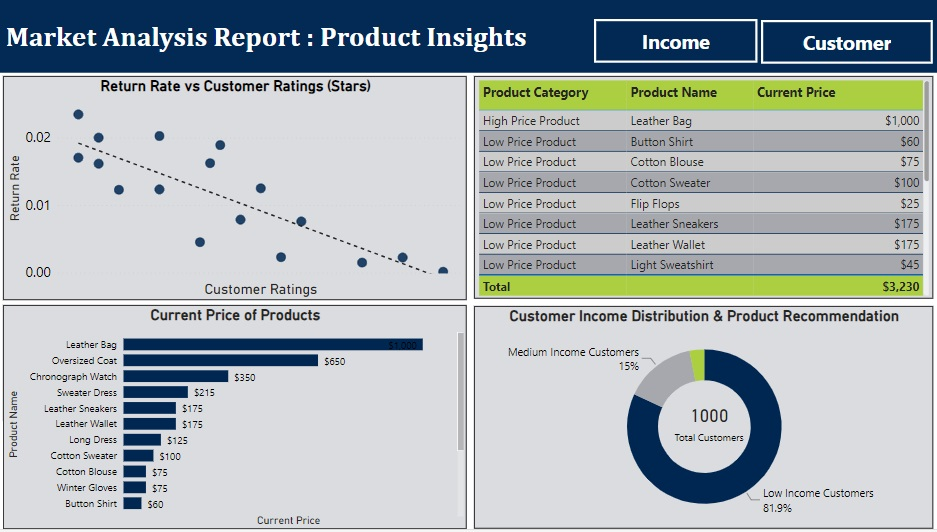

The page's visual inventory and layout, read from the dashboard file:
{"tool":"powerbi","page":{"name":"Product","canvas":[1280,720],"ordinal":0},"visuals":[{"type":"shape","box":[0,0,1279.8,99.2],"z":0},{"type":"textbox","box":[2.8,22.7,780.9,65.2],"z":1000},{"type":"scatterChart","title":"Return Rate  vs Customer Ratings (Stars)","fields":{"X":["Sum(Product Inventory.Customer Ratings (Stars))"],"Y":["Sum(Product Inventory.Return Rate)"]},"box":[4.3,103.5,630.7,304.7],"z":2000},{"type":"tableEx","fields":{"Values":["Product Inventory.Product Category","Product Inventory.Product Name","Sum(Product Inventory.Current Price)"]},"box":[644.9,103.5,625,303.3],"z":3000},{"type":"clusteredBarChart","title":"Current Price of Products","fields":{"Y":["Sum(Product Inventory.Current Price)"],"Category":["Product Inventory.Product Name"]},"box":[4.3,415.3,630.7,304.7],"z":4000},{"type":"donutChart","title":"Customer Income Distribution & Product Recommendation","fields":{"Category":["Customer List.Customer Category"],"Y":["CountNonNull(Customer List.Customer Category)"]},"box":[644.9,416.7,625,303.3],"z":5000},{"type":"card","fields":{"Values":["CountNonNull(Customer List.Customer ID)"]},"box":[909.9,537.2,109.1,72.3],"z":6000},{"type":"actionButton","box":[1036.1,26.9,233.9,59.5],"z":8000},{"type":"actionButton","box":[807.9,25.5,222.5,59.5],"z":9000}]}

Visuals, with their boxes in screenshot pixels (x1, y1, x2, y2), scaled from the page's 1280x720 canvas onto the 937x532 screenshot:
shape: {"left": 0, "top": 0, "right": 936, "bottom": 73}
textbox: {"left": 2, "top": 17, "right": 574, "bottom": 65}
"Return Rate  vs Customer Ratings (Stars)" scatterChart: {"left": 3, "top": 76, "right": 465, "bottom": 302}
tableEx - Product Inventory.Product Category x Product Inventory.Product Name: {"left": 472, "top": 76, "right": 930, "bottom": 301}
"Current Price of Products" clusteredBarChart: {"left": 3, "top": 307, "right": 465, "bottom": 531}
"Customer Income Distribution & Product Recommendation" donutChart: {"left": 472, "top": 308, "right": 930, "bottom": 531}
card - CountNonNull(Customer List.Customer ID): {"left": 666, "top": 397, "right": 746, "bottom": 450}
actionButton: {"left": 758, "top": 20, "right": 930, "bottom": 64}
actionButton: {"left": 591, "top": 19, "right": 754, "bottom": 63}
